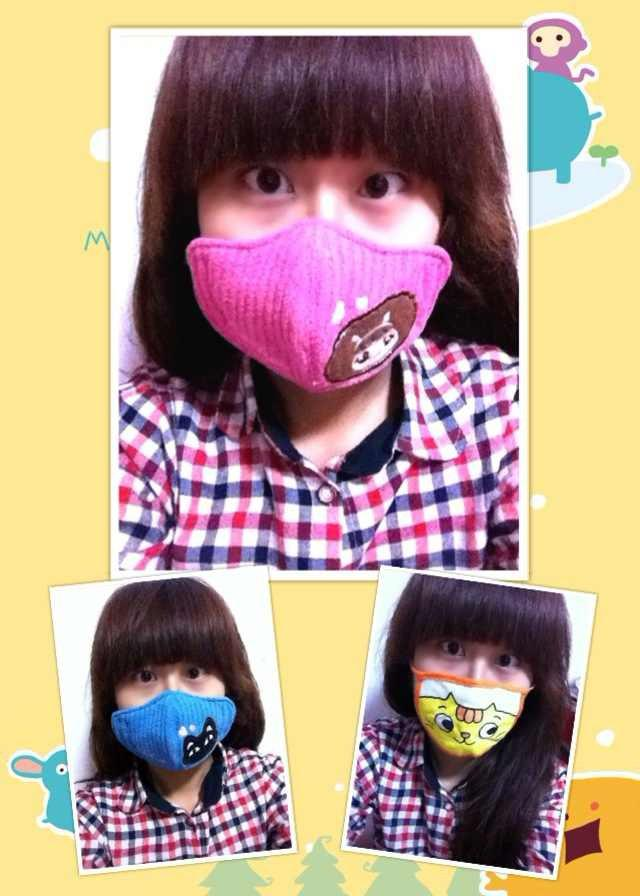OK: (188, 91, 474, 377), (410, 616, 543, 749), (109, 642, 229, 762)
